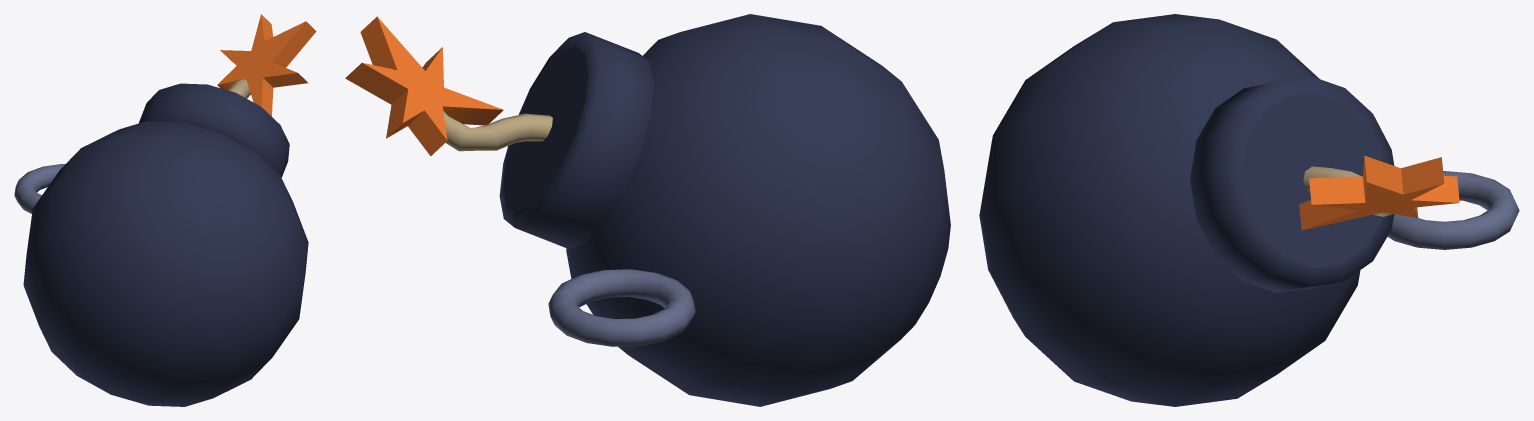
The model's file is charm_bomb.fbx.
The picture shows the model from 3 angles, left to right: view 1: azimuth 30°, elevation 25°; view 2: azimuth 150°, elevation 25°; view 3: azimuth 270°, elevation 25°; orthographic projection. The views are drawn at different scales.
Parts seen in each view (by area): view 1: charm_bomb; view 2: charm_bomb; view 3: charm_bomb.
Boxes of the visible parts, box(x1,y1,x2,y2) form: charm_bomb: box(14, 14, 316, 406); charm_bomb: box(345, 14, 950, 406); charm_bomb: box(979, 14, 1519, 406).
Size of the model in its own units: 1.67 by 1.26 by 1.65.
